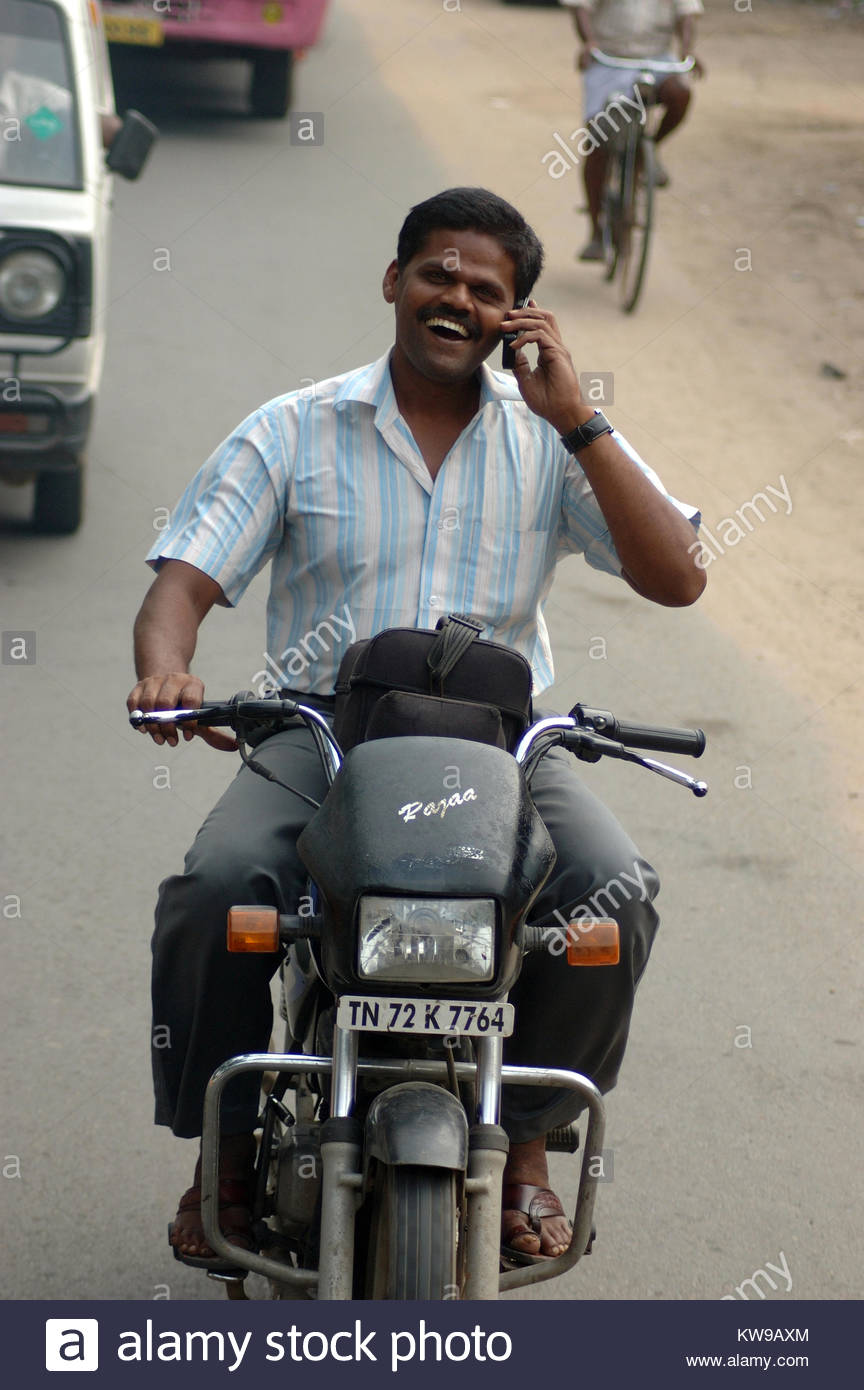dieu khien xe may: (162, 180, 696, 1293)
su dung dien thoai: (378, 191, 599, 461)
